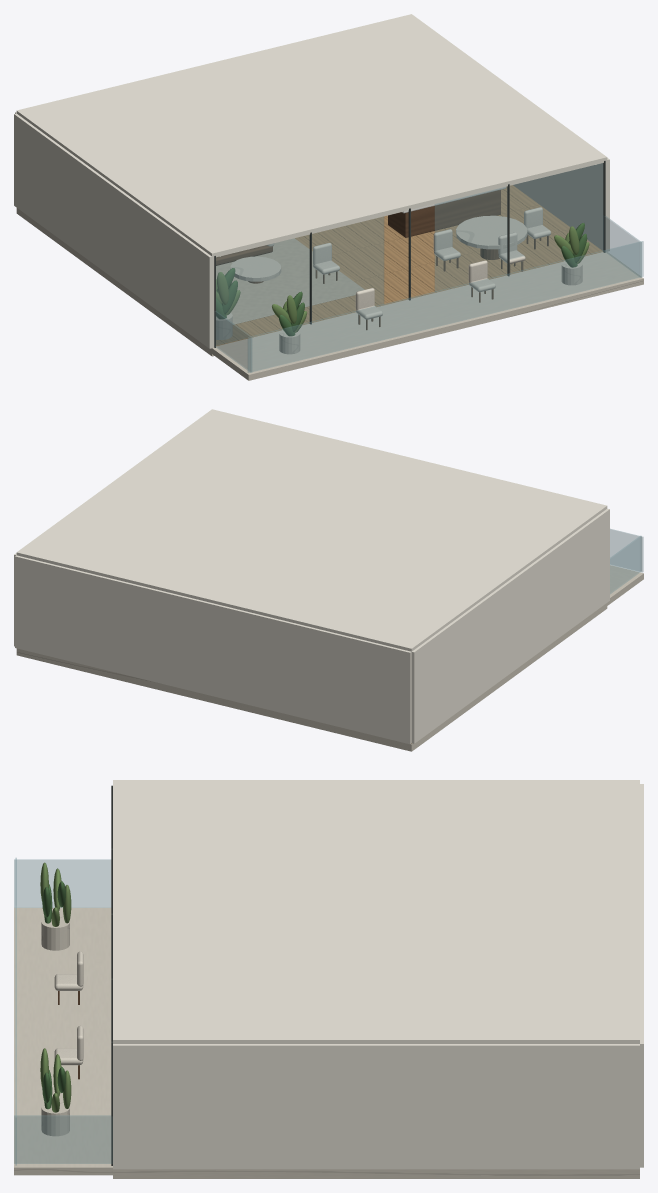
File: residence.glb
The picture shows the model from 3 angles, top to bottom: view 1: azimuth 30°, elevation 25°; view 2: azimuth 150°, elevation 25°; view 3: azimuth 270°, elevation 25°; orthographic projection. The views are drawn at different scales.
Visible parts, largest first — view 1: Ceiling__Ivory plaster, Interior__Blue glass, Interior__Ivory plaster, Interior__Honed limestone, Interior__Natural oak, Interior__Woven sand rug, Interior__Smoked walnut, Interior__Linen upholstery, Interior__Foliage, Interior__Foliage light, Interior__Bronze frames; view 2: Ceiling__Ivory plaster, Interior__Ivory plaster, Interior__Honed limestone, Interior__Blue glass; view 3: Ceiling__Ivory plaster, Interior__Ivory plaster, Interior__Honed limestone, Interior__Blue glass, Interior__Foliage light, Interior__Linen upholstery, Interior__Foliage, Interior__Bronze frames.
Part boxes in pixels (x1,y1,x2,y2): Ceiling__Ivory plaster: [16, 14, 607, 258]; Interior__Blue glass: [215, 163, 643, 372]; Interior__Ivory plaster: [14, 112, 609, 348]; Interior__Honed limestone: [16, 208, 643, 380]; Interior__Natural oak: [216, 185, 602, 346]; Interior__Woven sand rug: [216, 238, 364, 324]; Interior__Smoked walnut: [216, 190, 548, 329]; Interior__Linen upholstery: [267, 207, 550, 319]; Interior__Foliage: [216, 223, 587, 336]; Interior__Foliage light: [216, 226, 589, 332]; Interior__Bronze frames: [214, 161, 605, 347]; Ceiling__Ivory plaster: [16, 409, 607, 651]; Interior__Ivory plaster: [14, 508, 609, 744]; Interior__Honed limestone: [16, 565, 643, 751]; Interior__Blue glass: [610, 529, 643, 593]; Ceiling__Ivory plaster: [113, 780, 639, 1043]; Interior__Ivory plaster: [113, 784, 643, 1169]; Interior__Honed limestone: [14, 907, 639, 1178]; Interior__Blue glass: [14, 858, 112, 1165]; Interior__Foliage light: [40, 862, 71, 1112]; Interior__Linen upholstery: [54, 951, 83, 1065]; Interior__Foliage: [42, 881, 65, 1109]; Interior__Bronze frames: [111, 785, 112, 1165].
Bounding box in the file's own units: 14.18 × 3.48 × 14.34.
15 materials, 6 textured.
